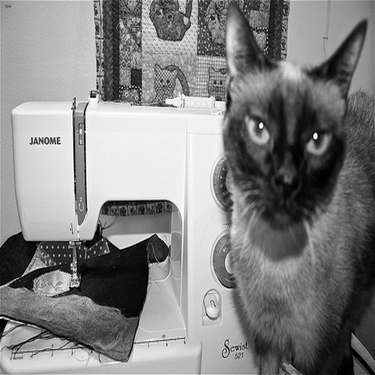cat: (223, 1, 368, 369)
